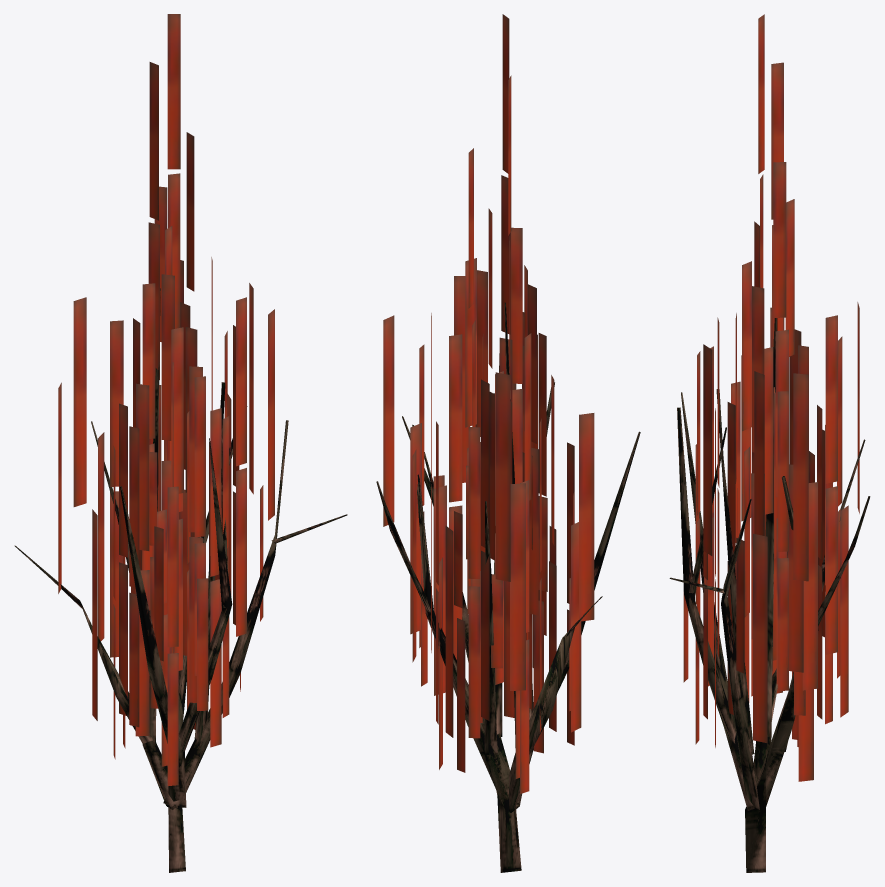
The model's file is RedTree_3.gltf.
3 views of the same model, side by side, from view 1: azimuth 30°, elevation 25°; view 2: azimuth 150°, elevation 25°; view 3: azimuth 270°, elevation 25° (orthographic).
Parts seen in each view (by area): view 1: RedTree_3; view 2: RedTree_3; view 3: RedTree_3.
Part boxes in pixels (<box>): RedTree_3: <box>14,14,347,872</box>; RedTree_3: <box>376,14,640,872</box>; RedTree_3: <box>669,14,870,872</box>.
Size of the model in its own units: 2.16 by 6.89 by 1.47.
Materials: 89 (89 with a texture image).
